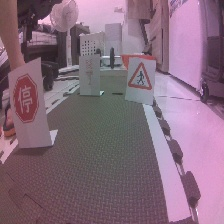pedestrian: (128, 60, 154, 95)
rail: (79, 56, 100, 89)
stop: (9, 72, 43, 125)
